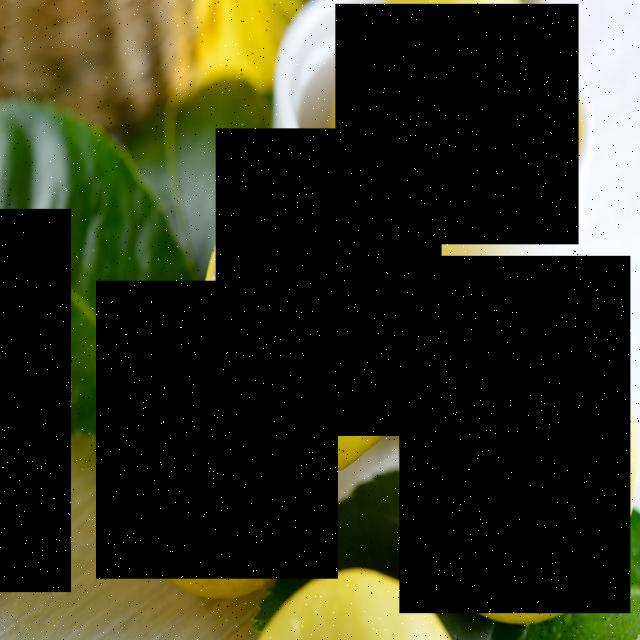Lime: (400, 256, 631, 614), (96, 281, 338, 578), (216, 129, 442, 437), (336, 4, 579, 246), (0, 210, 71, 592)
